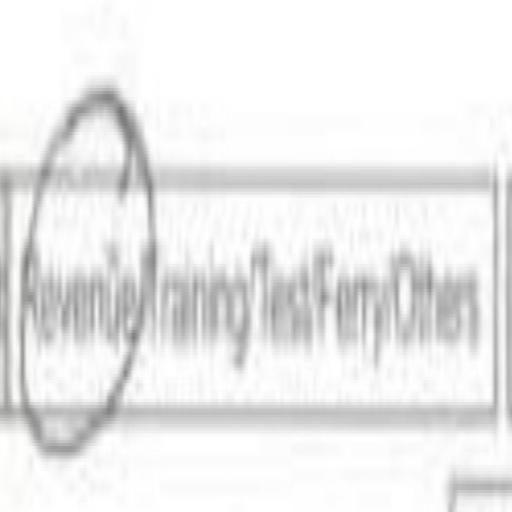check: (8, 110, 140, 484)
